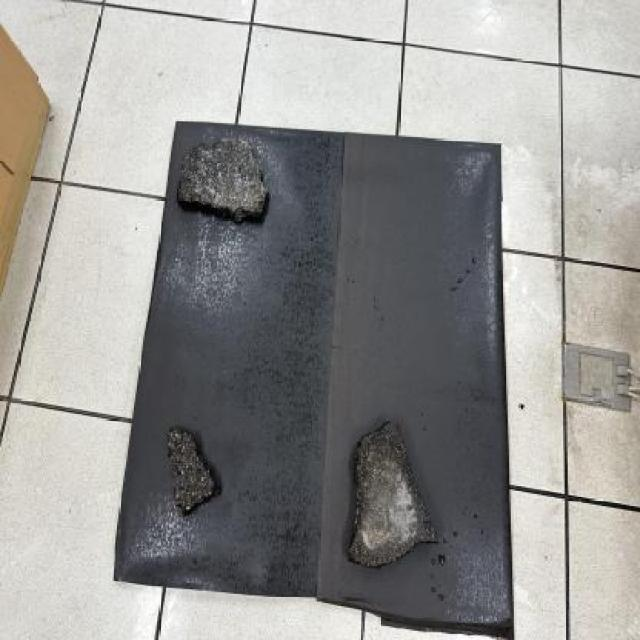Road Debris: (178, 134, 264, 188), (162, 429, 216, 511), (358, 433, 416, 507)
